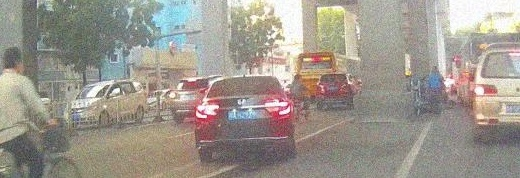L_light: (196, 105, 219, 119), (319, 84, 324, 94)
R_light: (265, 102, 291, 114), (339, 84, 346, 93)
T_light: (237, 92, 252, 96), (330, 76, 338, 78)
day-brake: (196, 74, 295, 161)
day-no: (316, 73, 349, 107)
